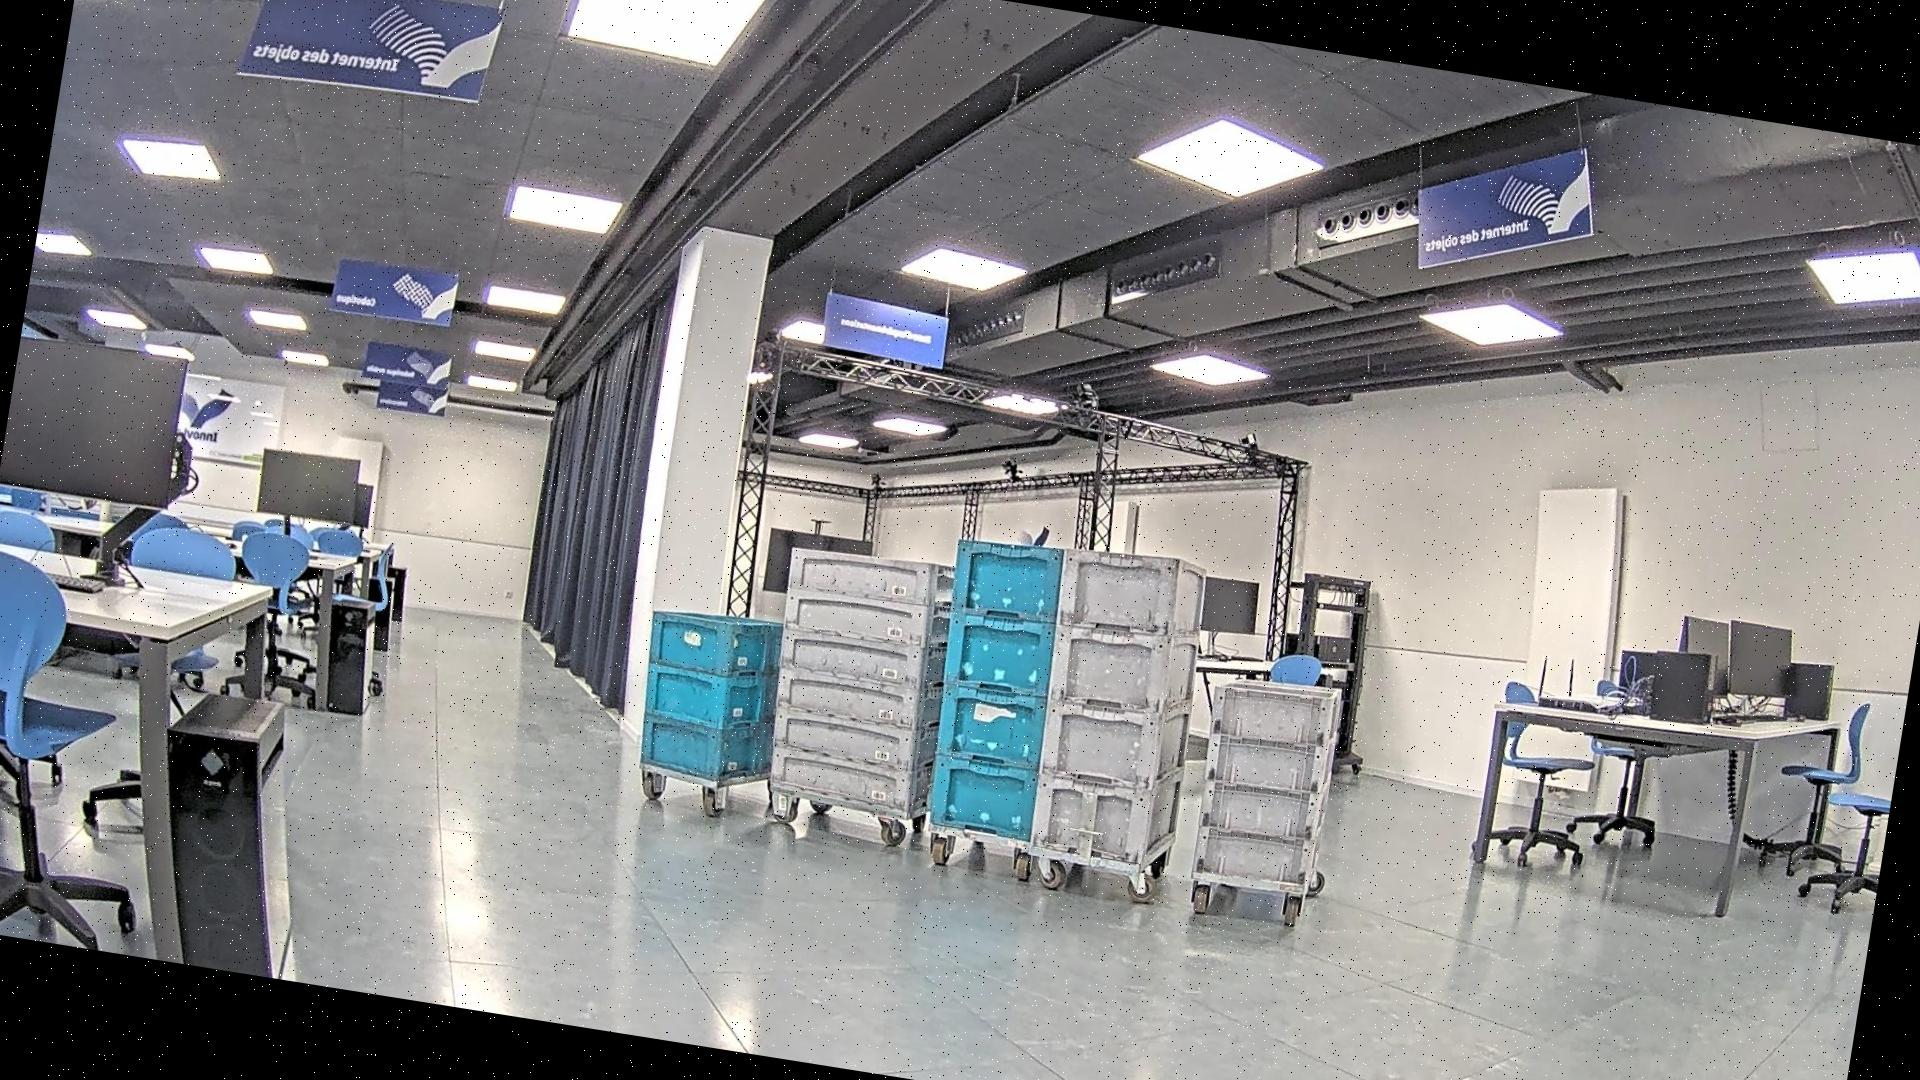Box3G: (752, 538, 968, 819)
Box4G: (1014, 537, 1221, 872)
Box8G: (1182, 666, 1346, 906)
BoxB4: (909, 529, 1077, 843)
BoxB8: (625, 600, 796, 791)
